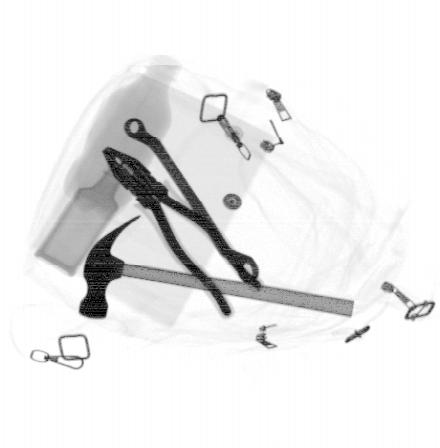Hammer: (77, 211, 358, 320)
Pliers: (98, 141, 266, 318)
Wrench: (121, 117, 262, 285)
